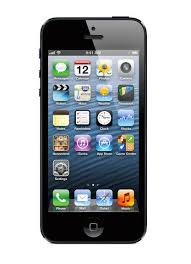iphone5: (34, 12, 152, 247)
